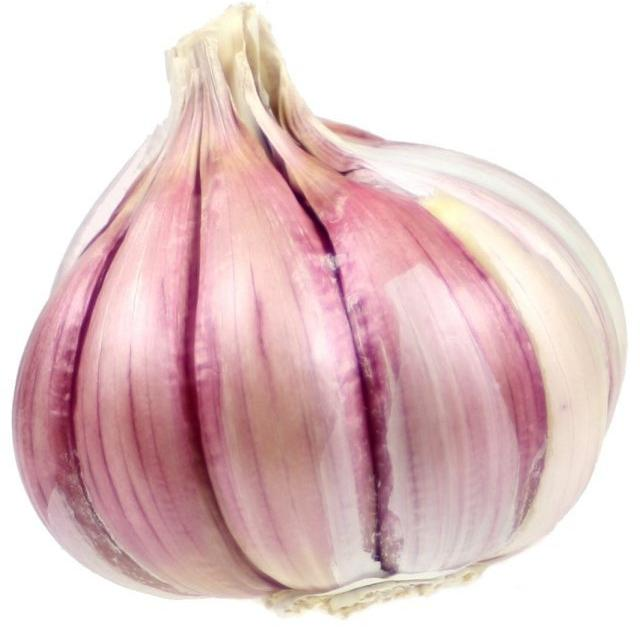garlic: (0, 5, 625, 627)
